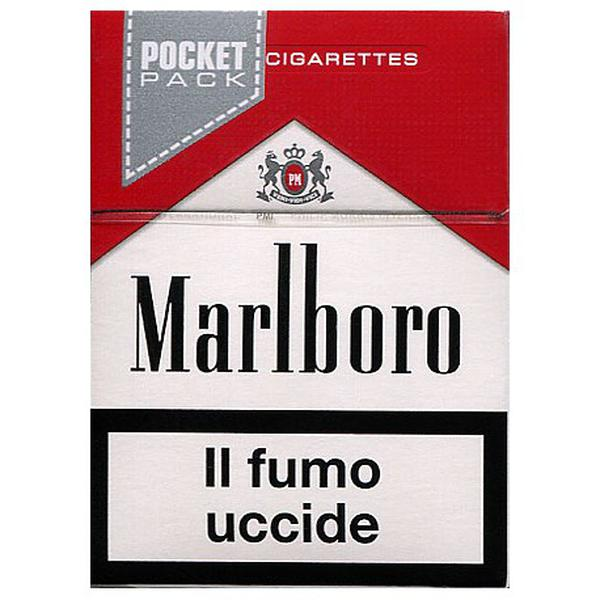marlboro_red: (92, 12, 505, 587)
